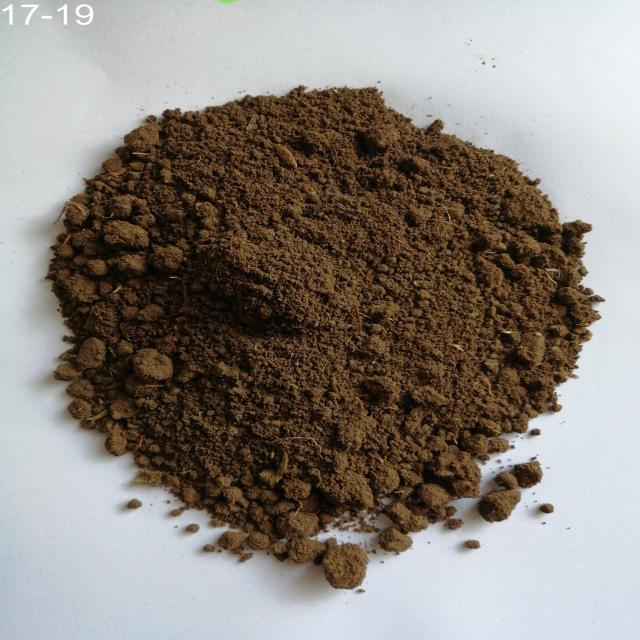soil: (156, 136, 463, 454)
